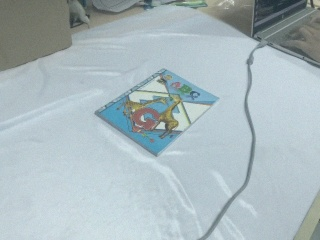book: (93, 65, 222, 159)
box: (1, 1, 72, 76)
